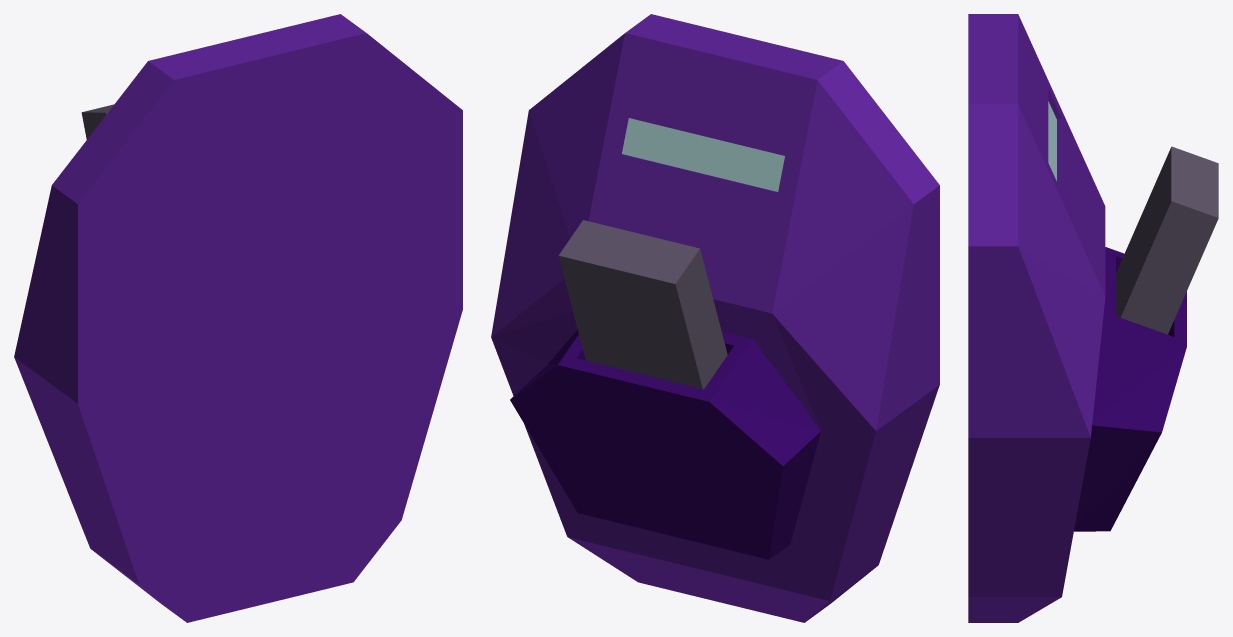
Rendered from badtank.dae.
3 renders of one model, left to right at view 1: azimuth 30°, elevation 25°; view 2: azimuth 150°, elevation 25°; view 3: azimuth 270°, elevation 25°, orthographic. The views are drawn at different scales.
Parts seen in each view (by area): view 1: SketchUp; view 2: SketchUp (×4); view 3: SketchUp (×5).
Boxes of the visible parts, left/top/right/bottom form: SketchUp: left=14, top=14, right=462, bottom=622; SketchUp (×4): left=491, top=14, right=939, bottom=622; SketchUp (×5): left=968, top=14, right=1218, bottom=622.
Size of the model in its own units: 12.38 by 7.26 by 16.78.
